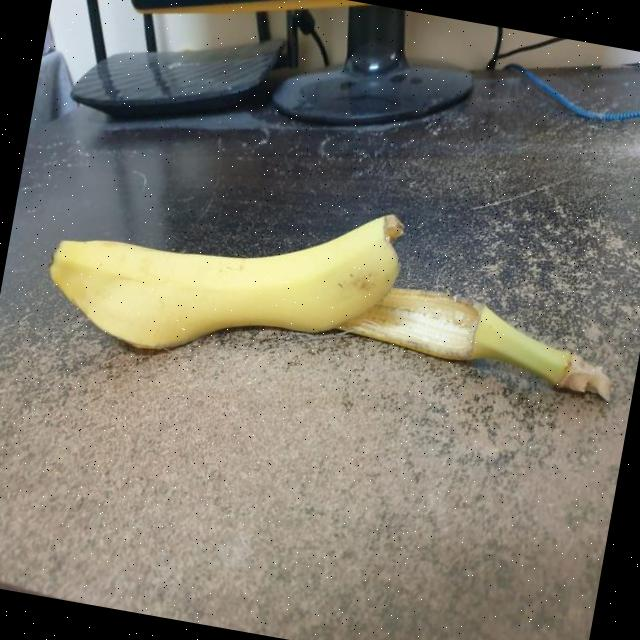banana-peel: (36, 154, 410, 392), (332, 272, 624, 402)
